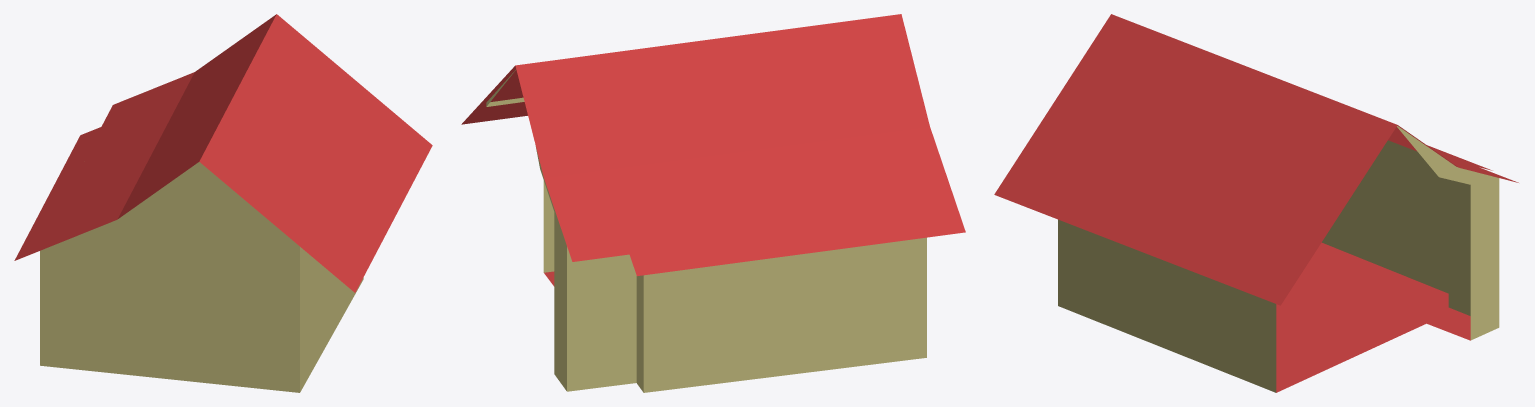
3 renders of one model, left to right at view 1: azimuth 30°, elevation 25°; view 2: azimuth 150°, elevation 25°; view 3: azimuth 270°, elevation 25°, orthographic. The views are drawn at different scales.
Size of the model in its own units: 30.87 by 30 by 15.82.
